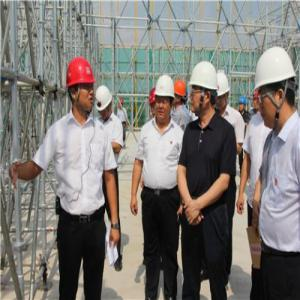blue: (239, 96, 248, 113)
red: (66, 56, 96, 115)
white: (256, 48, 297, 128), (190, 62, 218, 117), (155, 76, 175, 122), (96, 86, 115, 121), (214, 71, 230, 110)
yellow: (174, 78, 187, 108)
